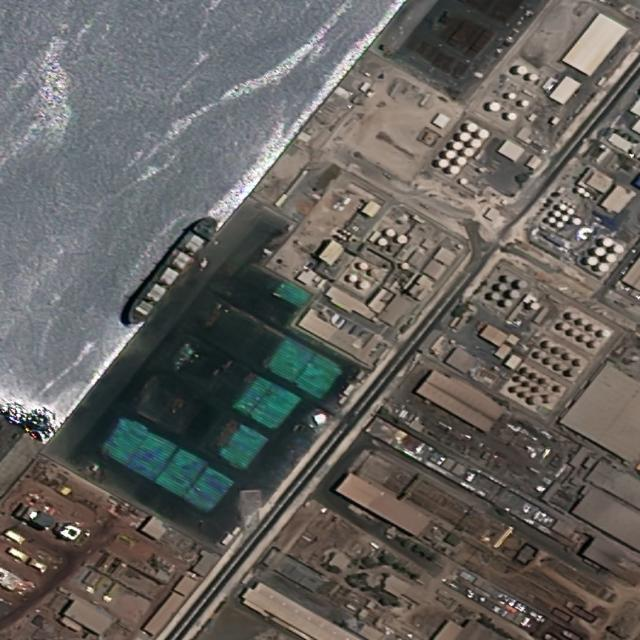Container Ship: (119, 212, 223, 331)
